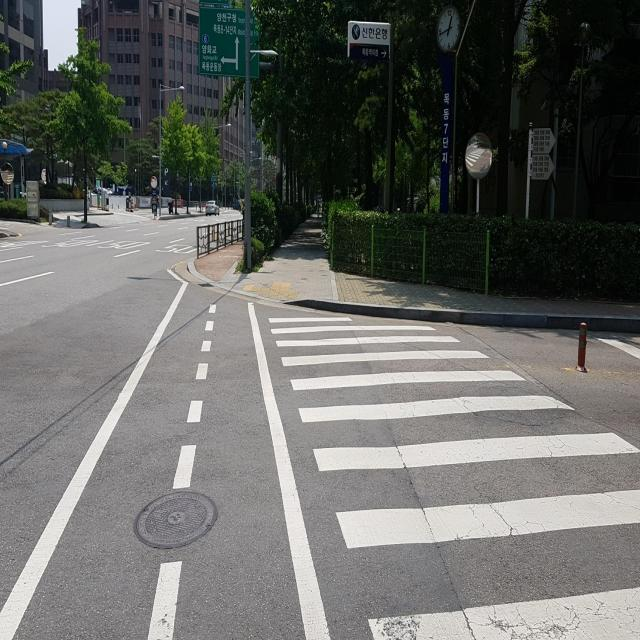횡단보도: (265, 314, 640, 640)
